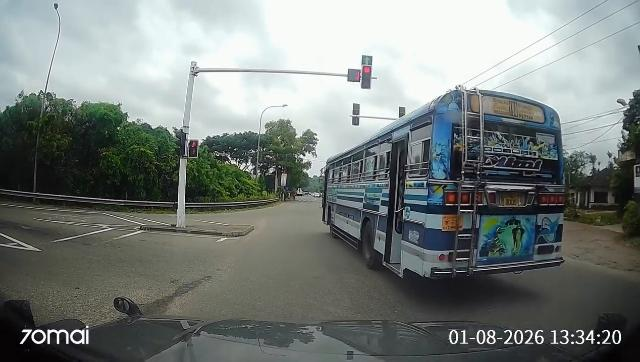red light violation: (314, 125, 515, 284)
traffic light red: (358, 62, 374, 91)
